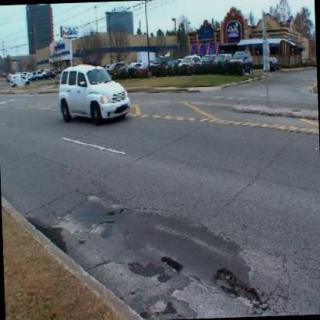pothole: (215, 268, 262, 305), (161, 257, 183, 274)
